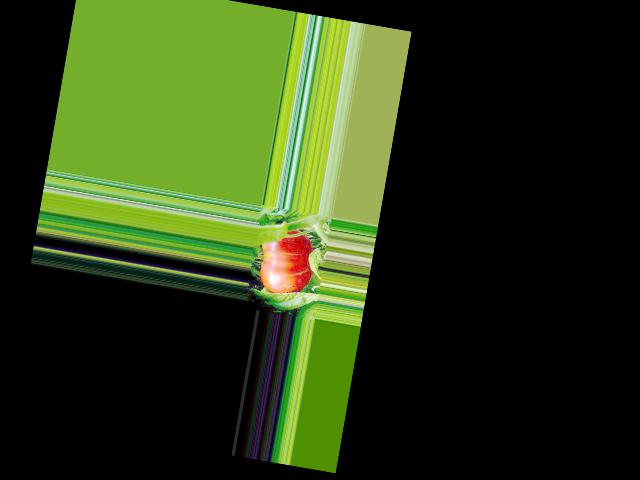tomato: (254, 223, 319, 299)
